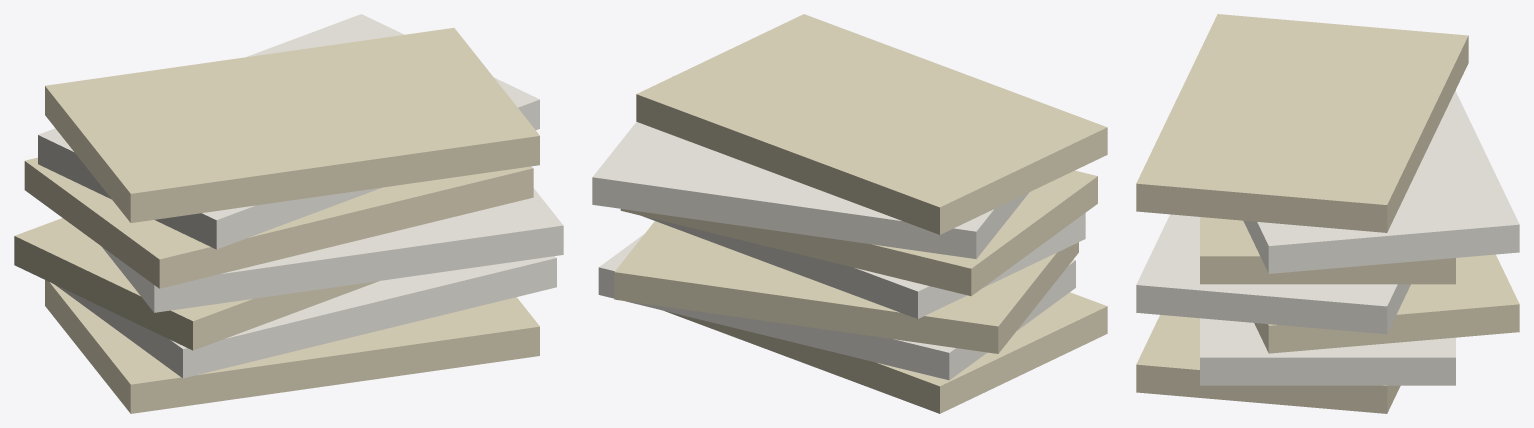
Rendered from prop_replyall_p2.glb.
The picture shows the model from 3 angles, left to right: view 1: azimuth 30°, elevation 25°; view 2: azimuth 150°, elevation 25°; view 3: azimuth 270°, elevation 25°; orthographic projection. The views are drawn at different scales.
Visible parts, largest first — view 1: prop_replyall_p2_mesh; view 2: prop_replyall_p2_mesh; view 3: prop_replyall_p2_mesh.
Part boxes in pixels (box(x1,y1,x2,y2)): prop_replyall_p2_mesh: box(14, 14, 563, 413); prop_replyall_p2_mesh: box(592, 14, 1107, 413); prop_replyall_p2_mesh: box(1136, 14, 1519, 413).
Bounding box in the file's own units: 0.1867 × 0.09 × 0.1498.
